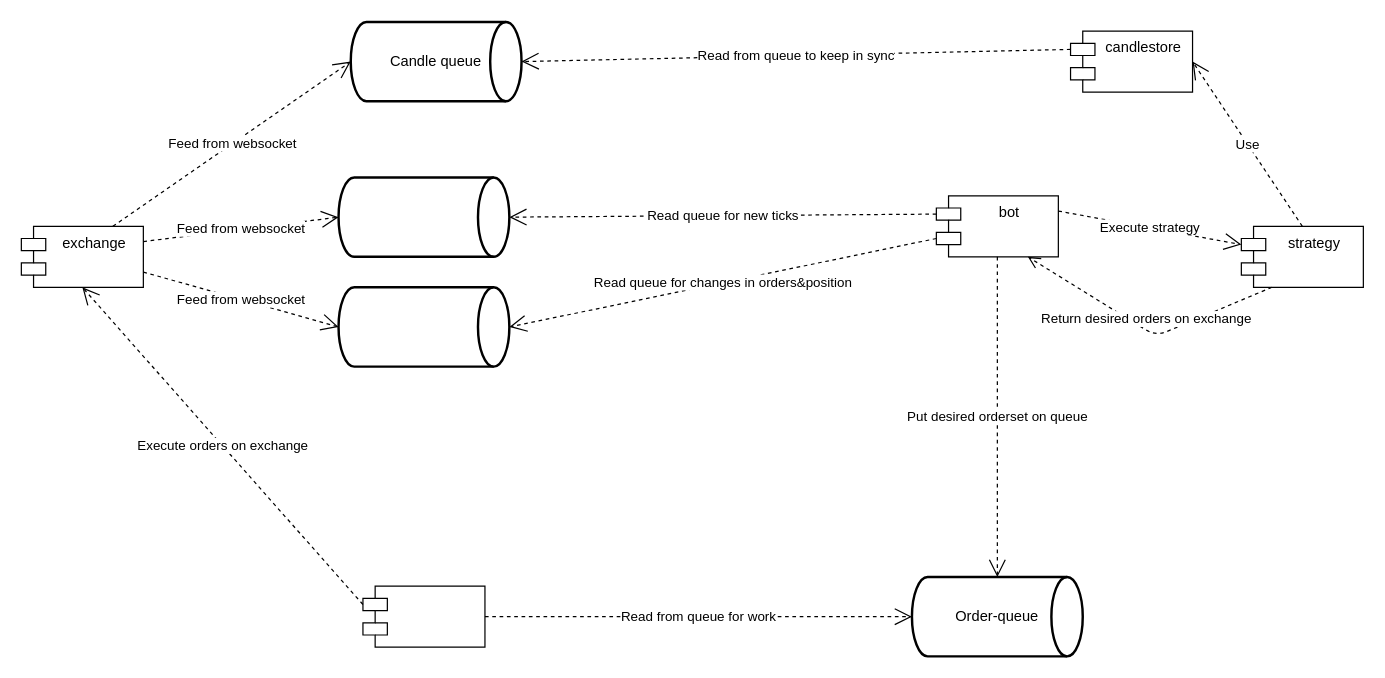
This 1385x678 diagram has some shape labels left out. Here are the shapes that lost their labels. From the top down, the centre of each, then its label:
(x=423, y=216): Ticks-queue
(x=423, y=326): Userdata-queue
(x=423, y=616): order executor
